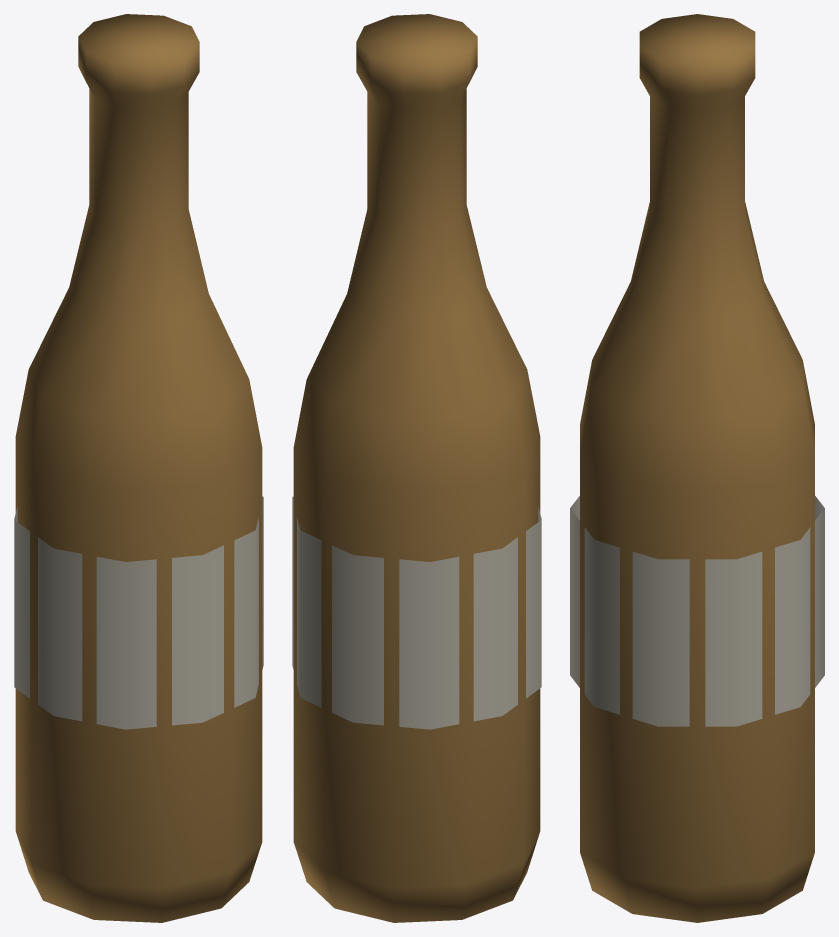
The model's file is bottle.glb.
The picture shows the model from 3 angles, left to right: view 1: azimuth 30°, elevation 25°; view 2: azimuth 150°, elevation 25°; view 3: azimuth 270°, elevation 25°; orthographic projection.
Visible parts, largest first — view 1: bottle; view 2: bottle; view 3: bottle.
Part boxes in pixels (x1=…): bottle: x1=14, y1=14, x2=263, y2=922; bottle: x1=292, y1=14, x2=541, y2=922; bottle: x1=570, y1=14, x2=824, y2=922.
Size of the model in its own units: 0.067 by 0.25 by 0.069.
